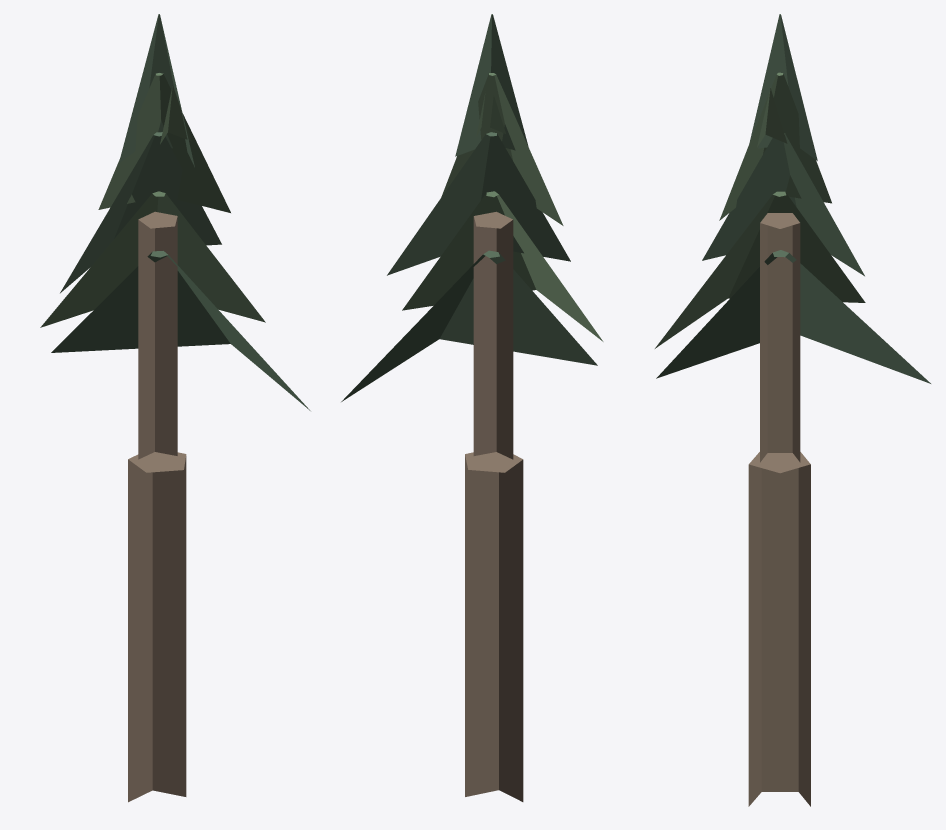
The model's file is tree.temp.scots_pine__spring.glb.
3 renders of one model, left to right at view 1: azimuth 30°, elevation 25°; view 2: azimuth 150°, elevation 25°; view 3: azimuth 270°, elevation 25°, orthographic.
Parts seen in each view (by area): view 1: tree.temp.scots_pine__spring; view 2: tree.temp.scots_pine__spring; view 3: tree.temp.scots_pine__spring.
Boxes of the visible parts, bbox=[...] form: tree.temp.scots_pine__spring: bbox=[40, 14, 310, 802]; tree.temp.scots_pine__spring: bbox=[341, 14, 603, 801]; tree.temp.scots_pine__spring: bbox=[655, 14, 930, 806].
Size of the model in its own units: 6.51 by 19.56 by 6.24.
